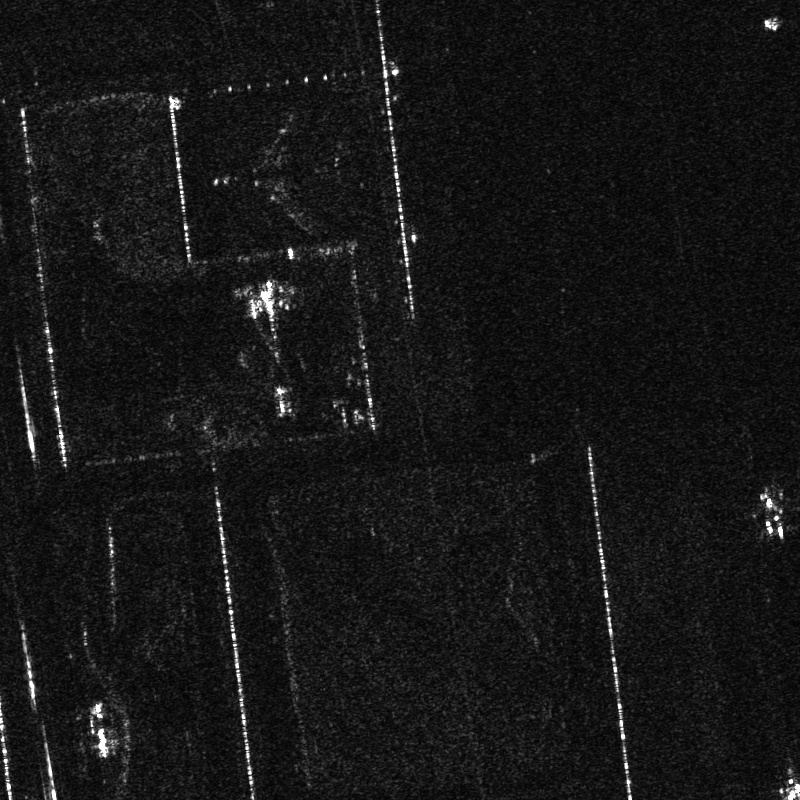A220: (729, 475, 799, 549)
other: (210, 91, 390, 245)
